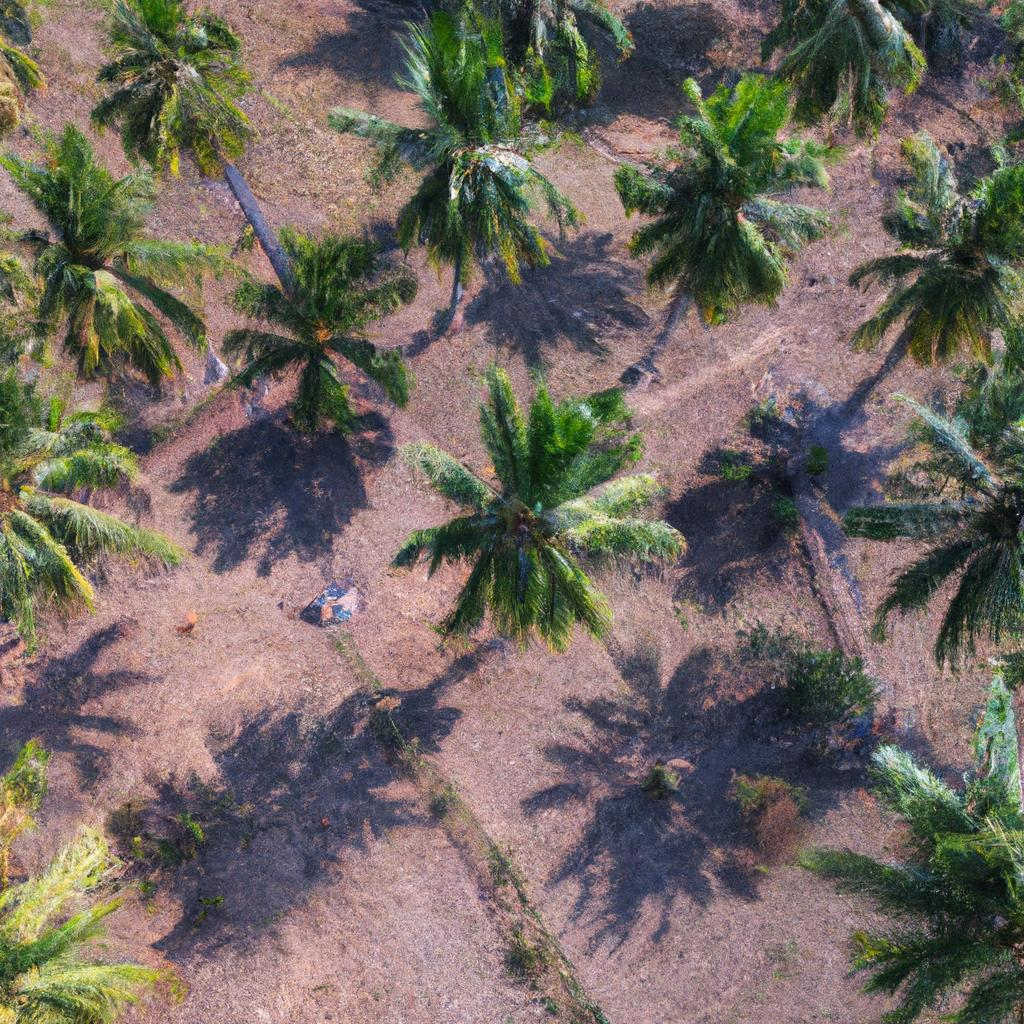coconut_tree: (391, 378, 677, 658), (327, 24, 596, 261), (596, 67, 834, 332), (4, 137, 231, 391), (871, 102, 1022, 378), (215, 234, 421, 426)
